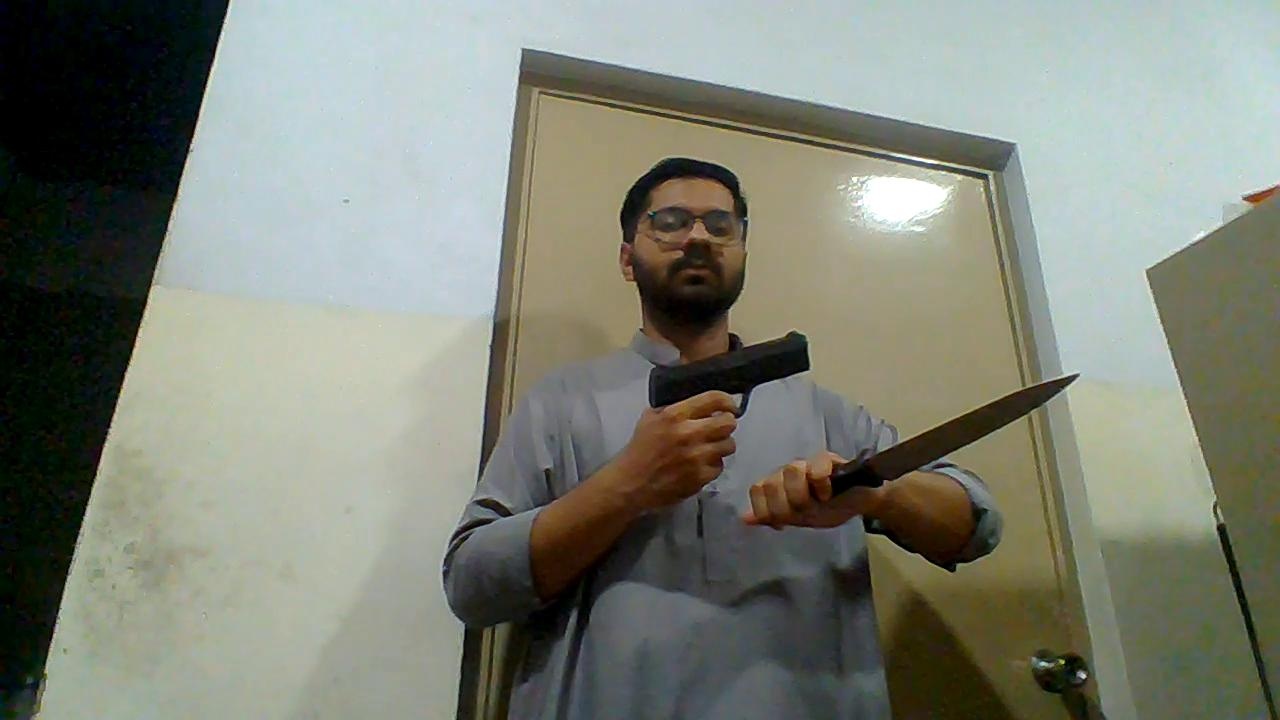criminal: (440, 157, 1082, 720)
weapon: (830, 372, 1082, 495), (642, 332, 813, 423)
